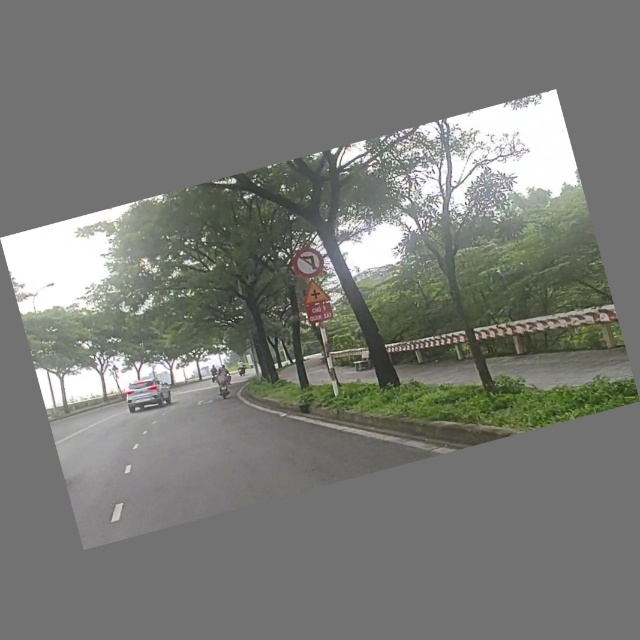P.123a: (288, 243, 330, 284)
W.205a: (295, 274, 333, 309)
